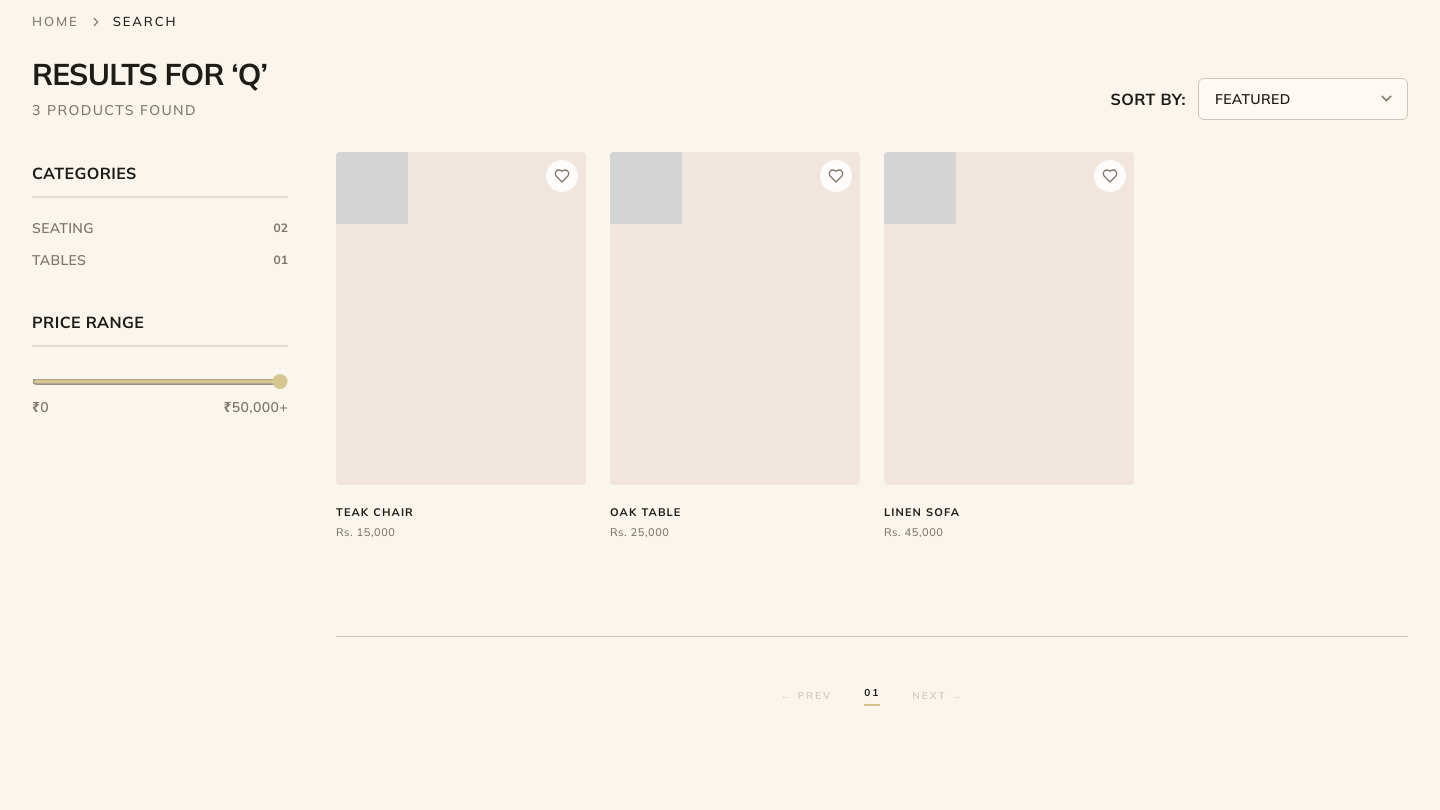
Scenario: SearchResults › category filter › filters the grid to the clicked category
The image size is (1440, 810).
Step 1. Click the list item with test id "filter-category-Tables" → {"x": 59, "y": 259}, box [32,249,288,269]
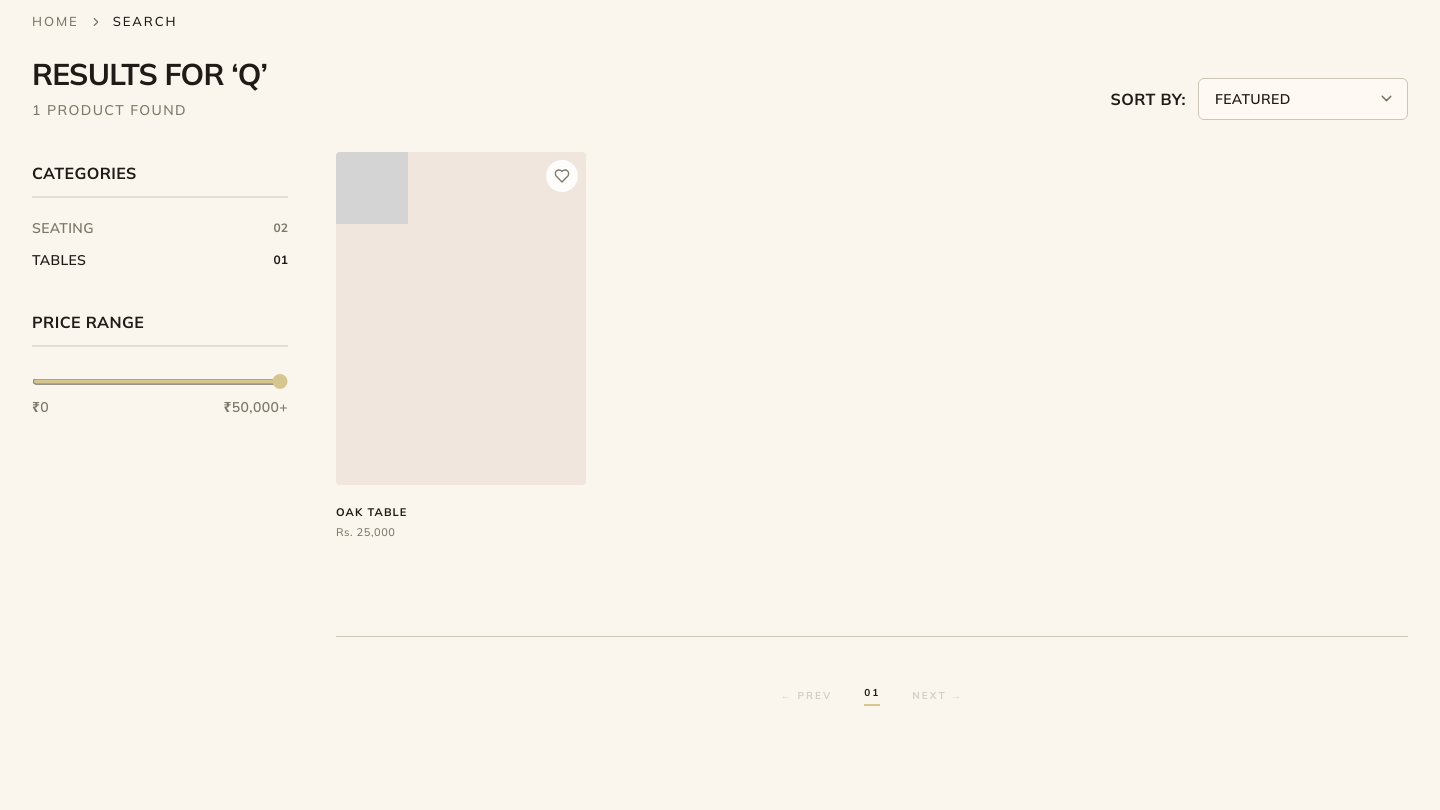
expect the link with test id "product-card-2" is shown: met, box [336,152,586,540]
expect the link with test id "product-card-1" is gone: met
expect the link with test id "product-card-3" is gone: met
